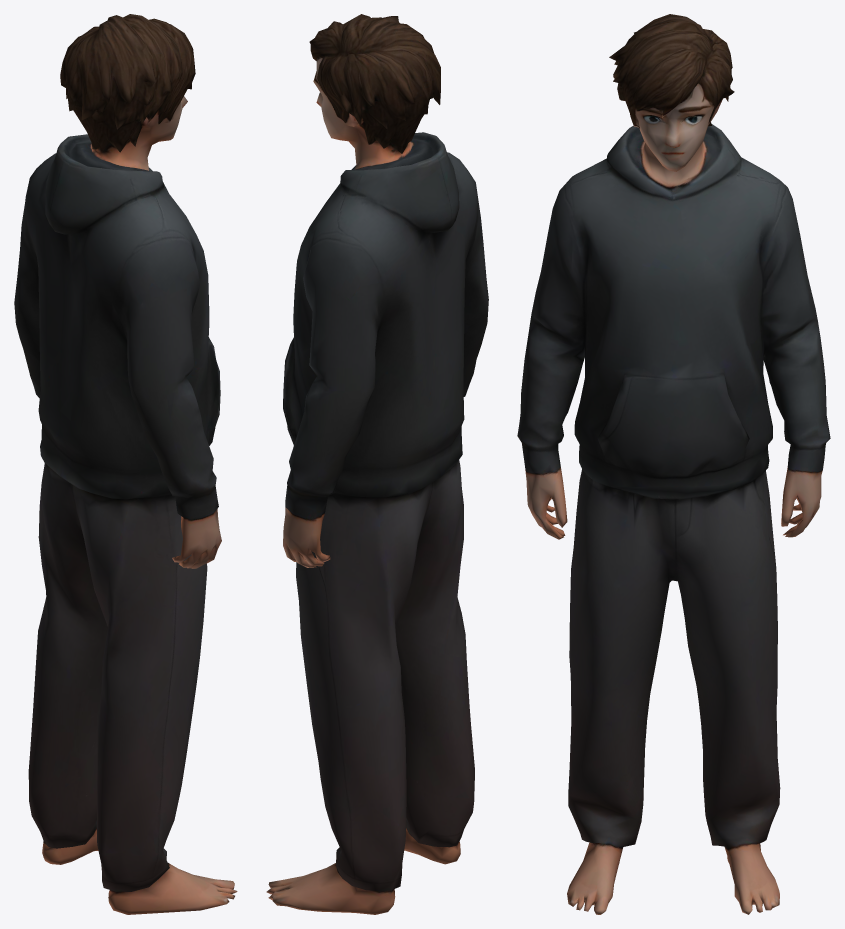
The model's file is Player.glb.
3 renders of one model, left to right at view 1: azimuth 30°, elevation 25°; view 2: azimuth 150°, elevation 25°; view 3: azimuth 270°, elevation 25°, orthographic.
Parts seen in each view (by area): view 1: tripo_node_80cfebc9-5225-4433-9270-bcd9caad85d5; view 2: tripo_node_80cfebc9-5225-4433-9270-bcd9caad85d5; view 3: tripo_node_80cfebc9-5225-4433-9270-bcd9caad85d5.
Boxes of the visible parts, <box> form: tripo_node_80cfebc9-5225-4433-9270-bcd9caad85d5: <box>14,14,237,914</box>; tripo_node_80cfebc9-5225-4433-9270-bcd9caad85d5: <box>266,14,488,914</box>; tripo_node_80cfebc9-5225-4433-9270-bcd9caad85d5: <box>517,14,830,914</box>.
Bounding box in the file's own units: 0.1848 × 0.9962 × 0.328.
1 material, 1 textured.
